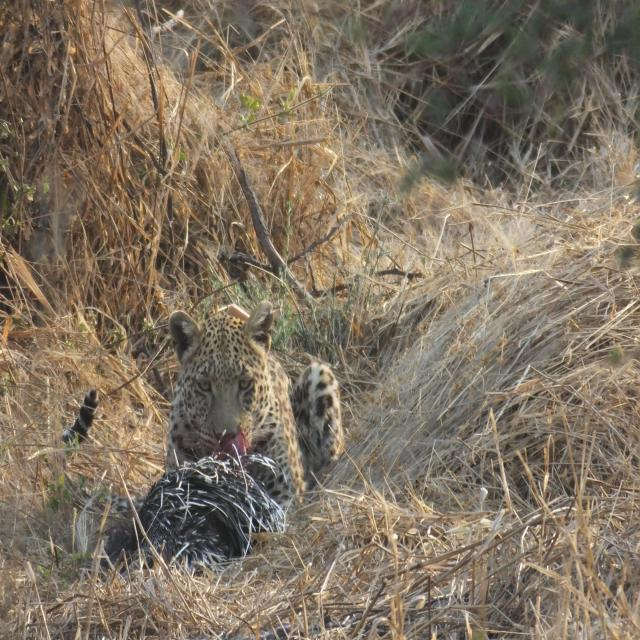Leopard: (126, 302, 345, 503)
